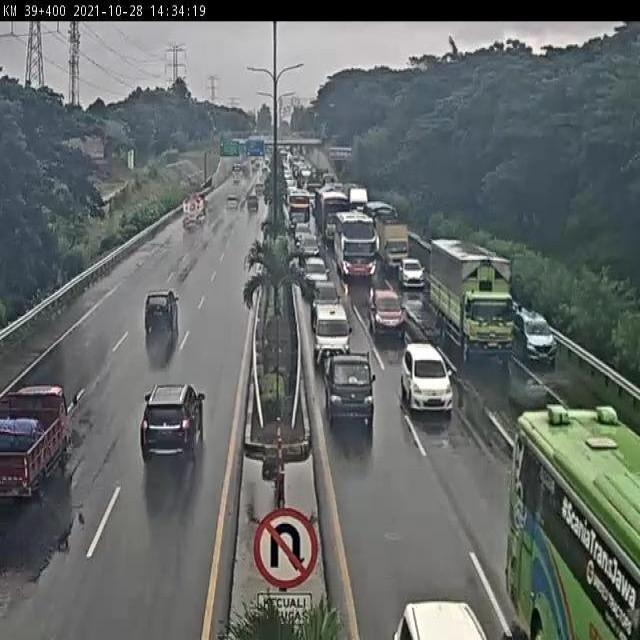big bus: (504, 404, 640, 640), (340, 215, 383, 284), (320, 190, 353, 242), (285, 191, 313, 232)
car: (140, 385, 205, 468), (399, 344, 456, 421), (323, 352, 376, 431), (514, 304, 558, 363), (367, 289, 411, 343), (143, 292, 182, 343), (313, 304, 350, 357), (303, 251, 330, 300), (399, 252, 428, 291), (341, 250, 367, 278), (311, 282, 341, 306), (297, 238, 318, 266), (292, 220, 309, 240)
small truck: (0, 383, 83, 501), (377, 214, 417, 278)
truck-l-: (431, 239, 520, 365)
